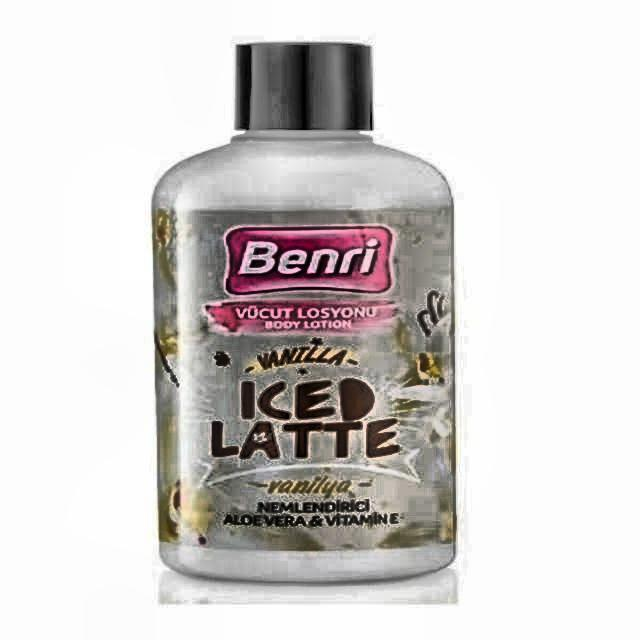plastic: (149, 42, 460, 589)
